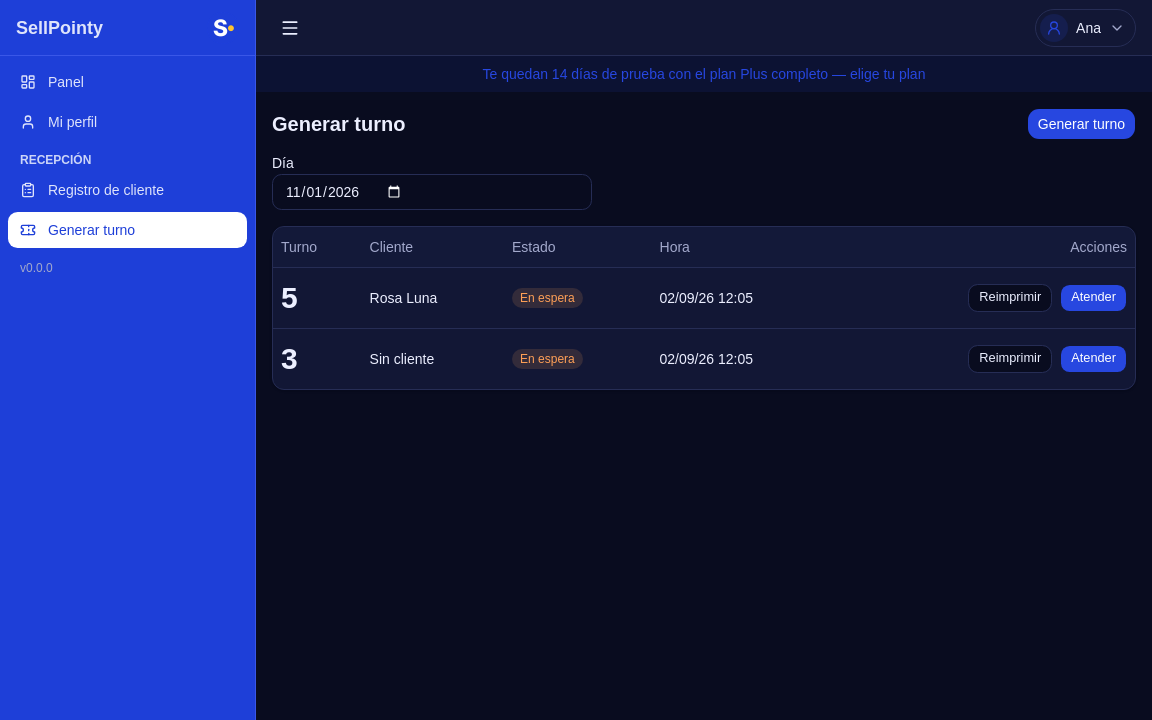
Test: Generar turno (F9-RECEP-13) › «Generar turno» arriba crea un turno sin cliente y muestra el número en grande
Expected: the row with test id "turn-t5" is shown, [273,267,1135,328]
Click the button "Generar turno".
click(1081, 124)  # box [1027,108,1136,140]
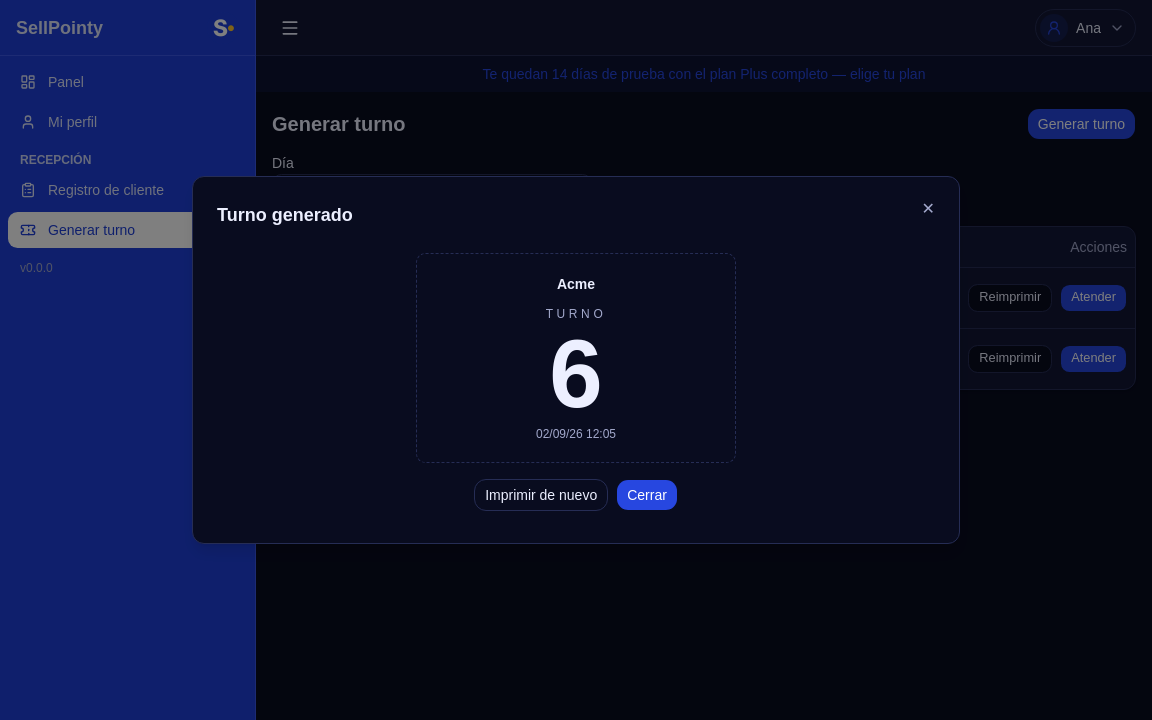
Result: the text with test id "turn-number" reads "6" at [549,320,603,427]
